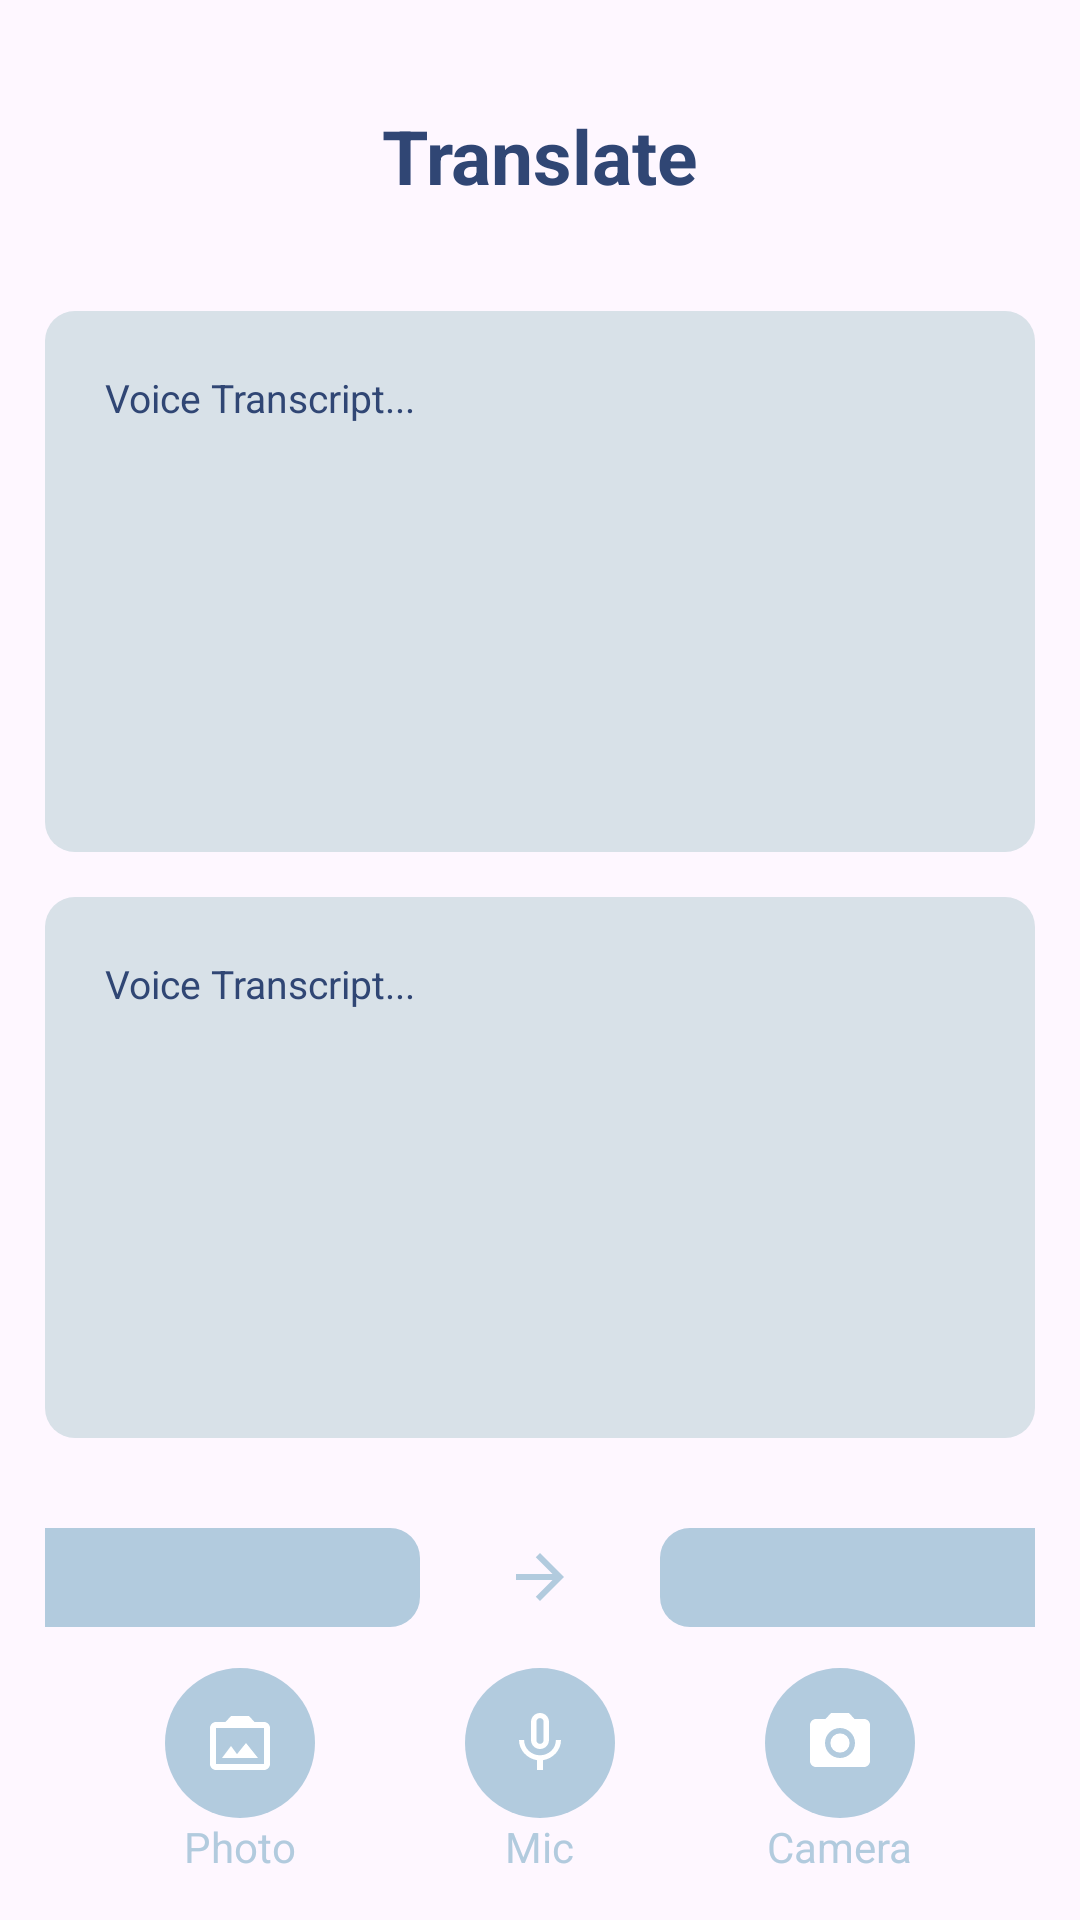

Where icons sit on this 1080x1920 app screen, as (x1, y1, x2, y2):
arrow forward: (516, 1553, 564, 1601)
